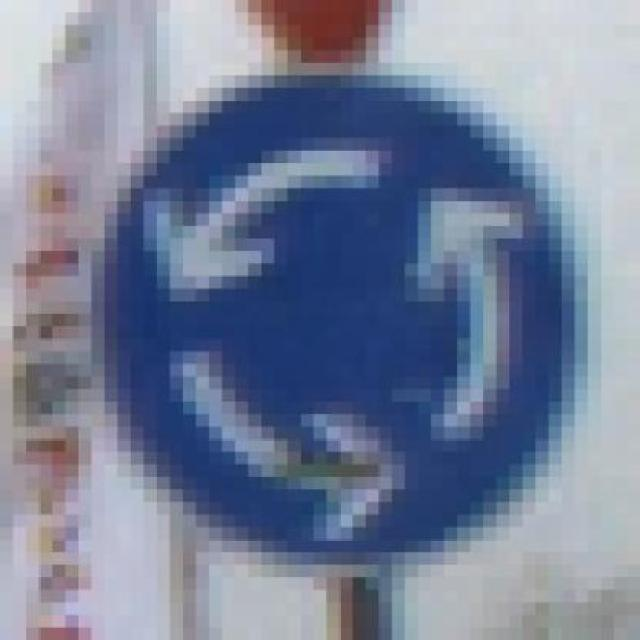Round-About: (65, 50, 601, 602)
